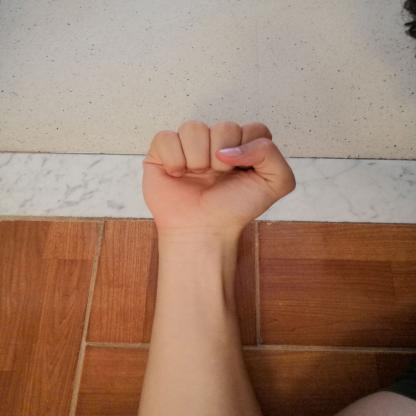SAD: (119, 110, 306, 241)
